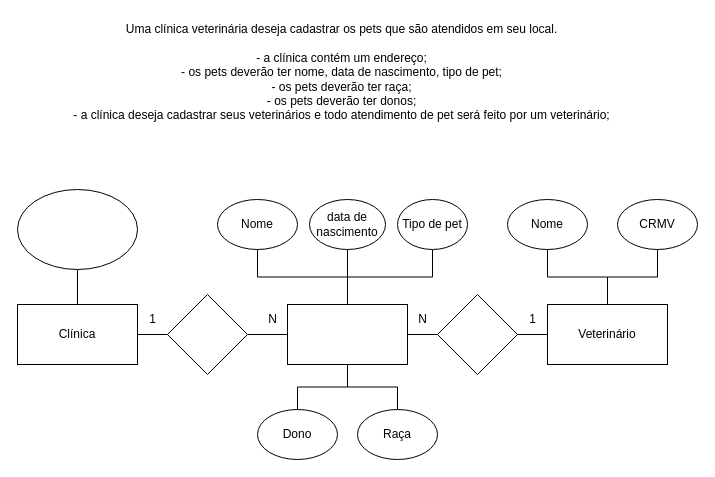
The diagram is 715 pixels wide and 477 high, and some of its shapes have lost their labels. Each missing label, with the centre of its shape:
"Cadastra" goes at (477,334).
"Endereço" goes at (77,229).
"Pet" goes at (347,334).
"Possui" goes at (207,334).
